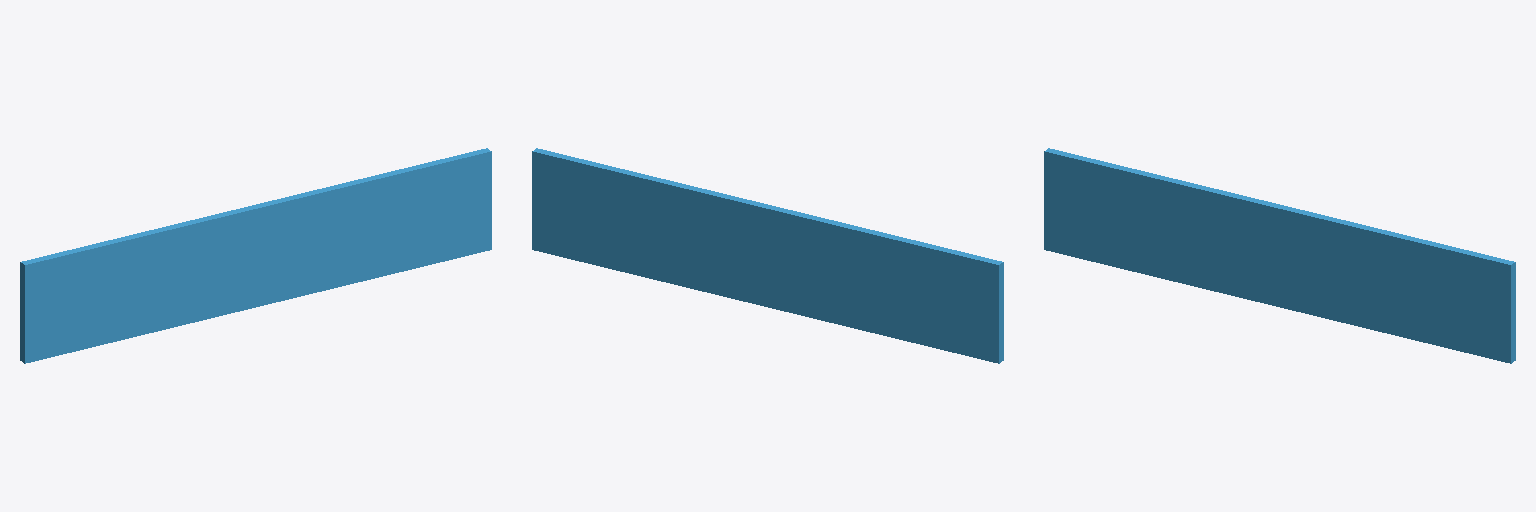
The robot description file, URDF, robot "hemis_1":
<?xml version="1.0" encoding="utf-8"?>    
    <robot name="hemis_1">
        <link name="hemis_1">    
            <fem>
                <origin rpy="0.0 0.0 0.0" xyz="0 0 0" />
                <density value="100" />
                <youngs value="12241"/>
                <poissons value="0.3" />
                <damping value="0.0" />
                <attachDistance value="0.04" />
                <tetmesh filename="[local-path]/sim_data/Custom/Custom_mesh/multi_hemis_10kPa/hemis_1.tet" />
                <scale value="0.5"/>
            </fem>
        </link>

        <link name="fix_frame">
            <visual>
                <origin xyz="0 -10.121182739966946 0.060591369983472615"/>              
                <geometry>
                    <box size="0.3 0.005 0.060591369983472615"/>
                </geometry>
            </visual>
            <collision>
                <origin xyz="0 -0.12118273996694523 0.060591369983472615"/>              
                <geometry>
                    <box size="0.3 0.005 0.060591369983472615"/>
                </geometry>
            </collision>
            <inertial>
                <mass value="500000"/>
                <inertia ixx="0.05" ixy="0.0" ixz="0.0" iyy="0.05" iyz="0.0" izz="0.05"/>
            </inertial>
        </link>
        
        <joint name = "attach" type = "fixed">
            <origin xyz = "0.0 0.0 0.0" rpy = "0 0 0"/>
            <parent link ="hemis_1"/>
            <child link = "fix_frame"/>
        </joint>  




    </robot>
    

--- Facts derived from the render (not from the file) ---
Views: 3 orthographic renders of the robot side by side, from view 1: azimuth 30°, elevation 25°; view 2: azimuth 150°, elevation 25°; view 3: azimuth 330°, elevation 25°.
Model hemis_1 with 2 links and 1 joints (1 fixed), rooted at hemis_1, posed all joints at 0.
Links seen in each view (by area): view 1: fix_frame; view 2: fix_frame; view 3: fix_frame.
Boxes of the visible links, bbox=[...] form: fix_frame: bbox=[20, 148, 491, 363]; fix_frame: bbox=[532, 148, 1003, 363]; fix_frame: bbox=[1044, 148, 1515, 363].
Size in the robot's own frame: 0.3 by 0.005 by 0.0606 metres.
Geometry: primitives only (box / cylinder / sphere), no mesh files.